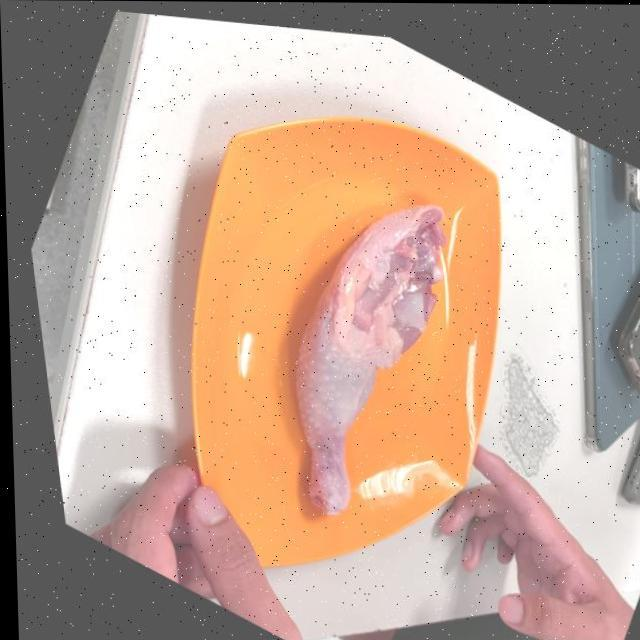quater: (290, 197, 453, 528)
